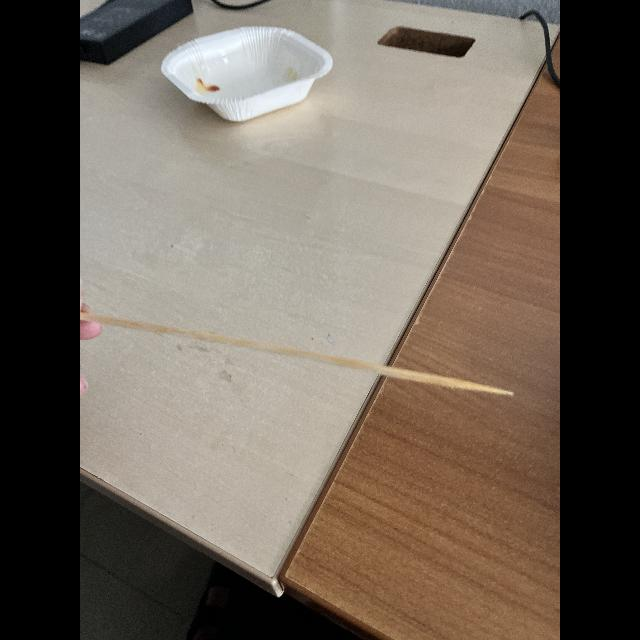cardboard_bowl: (160, 24, 340, 136)
stick: (87, 268, 531, 422)
